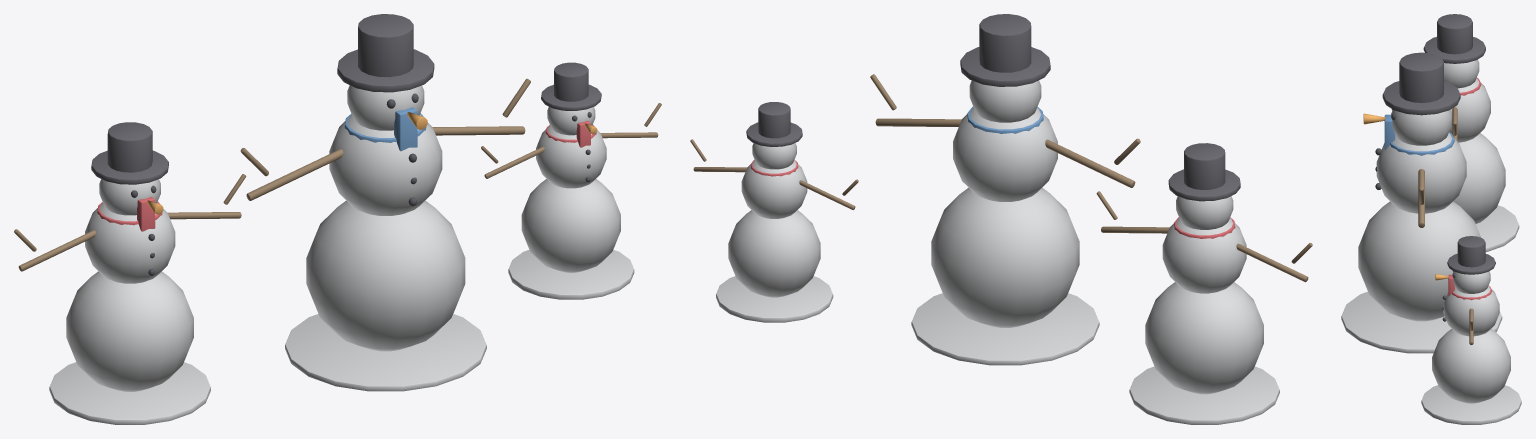
File: th29_schneemaenner.glb
3 renders of one model, left to right at view 1: azimuth 30°, elevation 25°; view 2: azimuth 150°, elevation 25°; view 3: azimuth 270°, elevation 25°, orthographic. The views are drawn at different scales.
Visible parts, largest first — view 1: Sphere.008, Sphere, Cylinder.008, Sphere.009, Sphere.016, Cylinder, Sphere.001, Cylinder.016, Cylinder.011, Sphere.017, Sphere.010, Cylinder.010 (+10 smaller); view 2: Sphere.008, Sphere, Cylinder.008, Sphere.009, Sphere.016, Cylinder, Sphere.001, Cylinder.016, Cylinder.011, Sphere.017, Sphere.010, Cylinder.010 (+8 smaller); view 3: Sphere.008, Sphere.009, Sphere.016, Cylinder.008, Sphere, Cylinder.016, Cylinder.011, Sphere.017, Sphere.010, Sphere.001, Cylinder.010, Cylinder.003 (+9 smaller).
Part boxes in pixels (left/top/right/bottom): Sphere.008: left=306, top=200, right=465, bottom=351; Sphere: left=66, top=271, right=193, bottom=391; Cylinder.008: left=285, top=314, right=486, bottom=391; Sphere.009: left=329, top=115, right=442, bottom=215; Sphere.016: left=521, top=179, right=620, bottom=272; Cylinder: left=49, top=362, right=210, bottom=424; Sphere.001: left=85, top=203, right=175, bottom=283; Cylinder.016: left=508, top=250, right=634, bottom=299; Cylinder.011: left=358, top=14, right=413, bottom=77; Sphere.017: left=536, top=125, right=606, bottom=188; Sphere.010: left=347, top=85, right=424, bottom=130; Cylinder.010: left=337, top=49, right=434, bottom=92; Sphere.008: left=931, top=187, right=1079, bottom=327; Sphere: left=1145, top=282, right=1263, bottom=394; Cylinder.008: left=911, top=293, right=1099, bottom=365; Sphere.009: left=953, top=108, right=1057, bottom=201; Sphere.016: left=728, top=210, right=820, bottom=297; Cylinder: left=1129, top=366, right=1279, bottom=424; Sphere.001: left=1162, top=218, right=1246, bottom=293; Cylinder.016: left=716, top=276, right=833, bottom=322; Cylinder.011: left=979, top=14, right=1031, bottom=72; Sphere.017: left=741, top=160, right=807, bottom=218; Sphere.010: left=969, top=80, right=1041, bottom=122; Cylinder.010: left=960, top=47, right=1050, bottom=86; Sphere.008: left=1358, top=201, right=1480, bottom=321; Sphere.009: left=1376, top=133, right=1466, bottom=213; Sphere.016: left=1432, top=328, right=1510, bottom=403; Cylinder.008: left=1341, top=291, right=1502, bottom=353; Sphere: left=1453, top=133, right=1505, bottom=223; Cylinder.016: left=1421, top=385, right=1521, bottom=424; Cylinder.011: left=1399, top=52, right=1443, bottom=102; Sphere.017: left=1443, top=286, right=1499, bottom=336; Sphere.010: left=1391, top=109, right=1452, bottom=145; Sphere.001: left=1449, top=78, right=1490, bottom=142; Cylinder.010: left=1382, top=81, right=1460, bottom=115; Cylinder.003: left=1437, top=14, right=1472, bottom=54.
Bounding box in the file's own units: 7.28 × 3.43 × 2.17.
